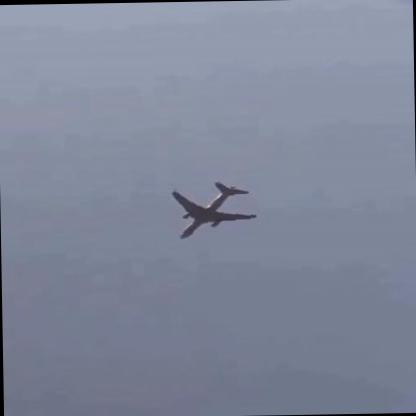plane: (171, 179, 256, 238)
